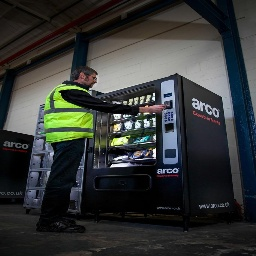no-helmet: (67, 64, 100, 86)
person: (37, 64, 102, 235)
vest: (41, 83, 99, 146)
